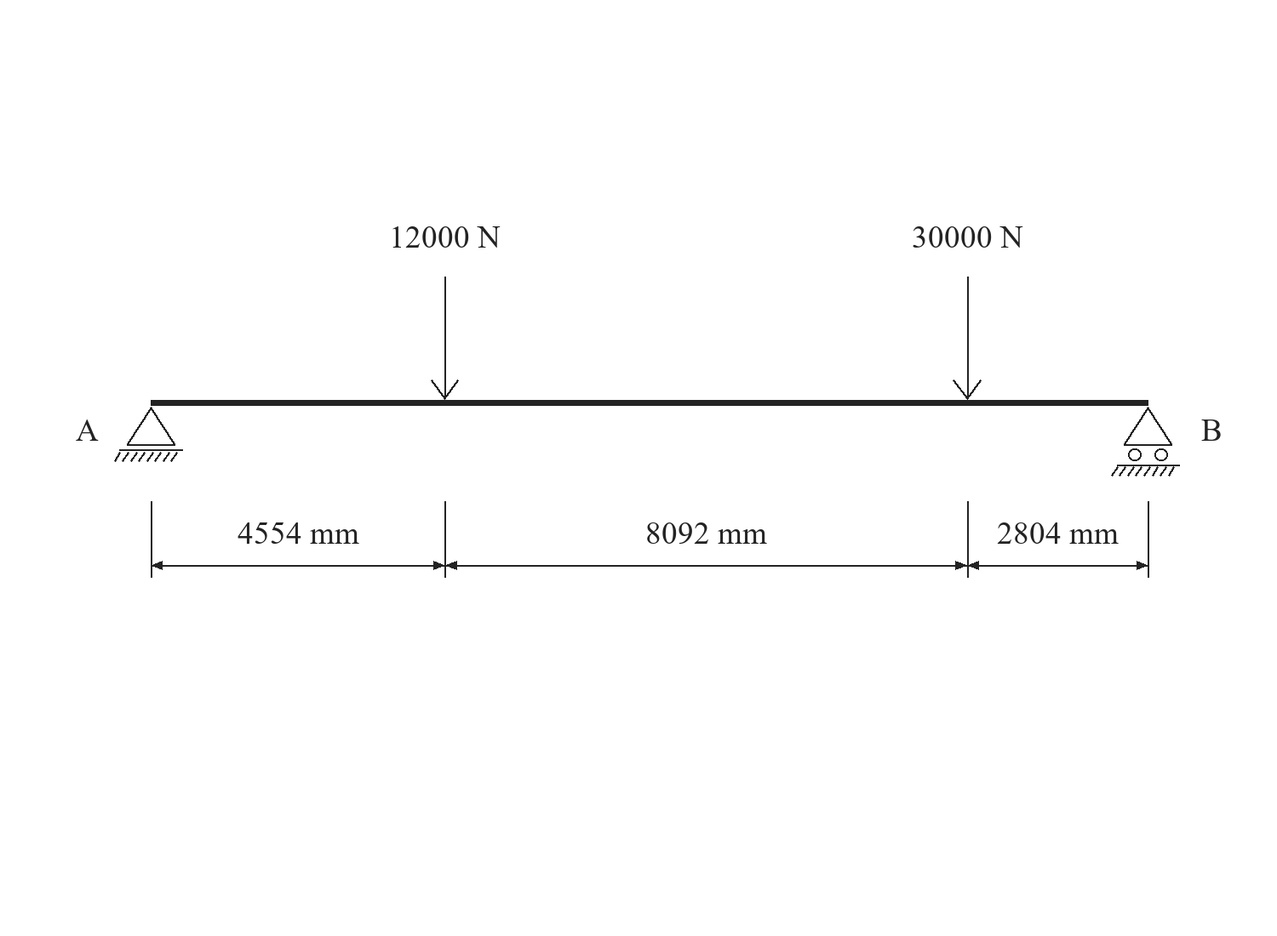pin_support: (114, 407, 183, 462)
point_load: (953, 277, 982, 400), (431, 277, 459, 400)
roller_support: (1111, 407, 1180, 477)
